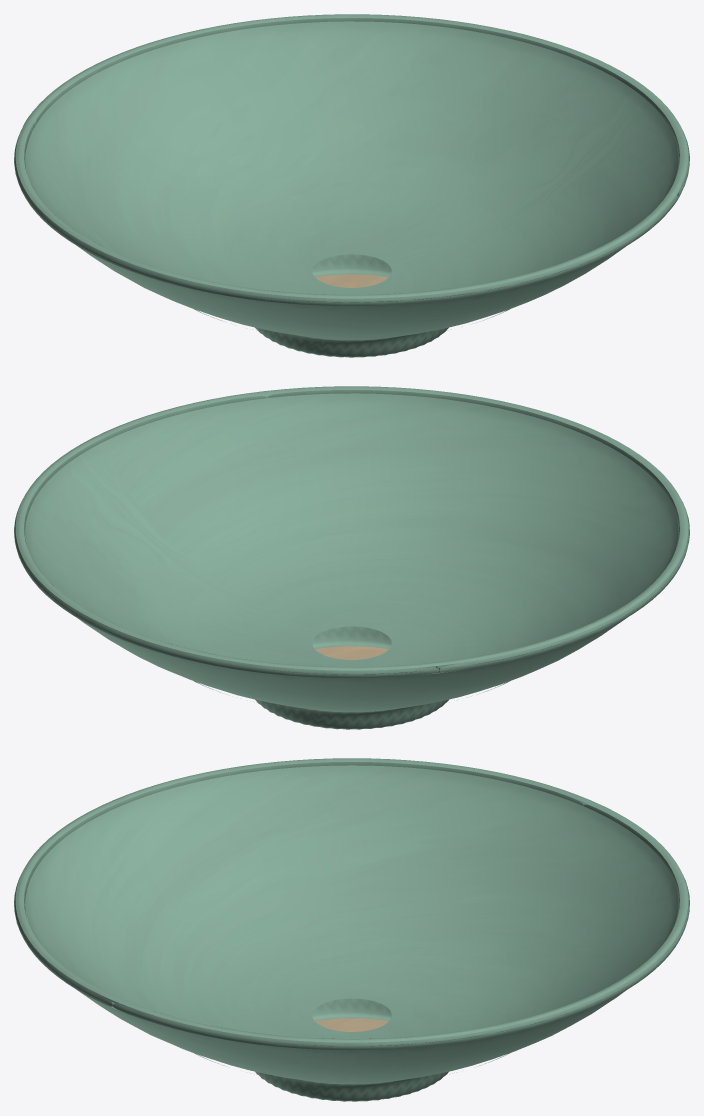
The model's file is PROP_Common_Bowl_A.glb.
3 views of the same model, one above another, from view 1: azimuth 30°, elevation 25°; view 2: azimuth 150°, elevation 25°; view 3: azimuth 270°, elevation 25° (orthographic).
Visible parts, largest first — view 1: PROP_Common_Bowl_A; view 2: PROP_Common_Bowl_A; view 3: PROP_Common_Bowl_A.
Boxes of the visible parts, <box> form: PROP_Common_Bowl_A: <box>14,14,689,357</box>; PROP_Common_Bowl_A: <box>14,386,689,729</box>; PROP_Common_Bowl_A: <box>14,758,689,1101</box>.
Bounding box in the file's own units: 0.766 × 0.2 × 0.766.
3 materials, 3 textured.
